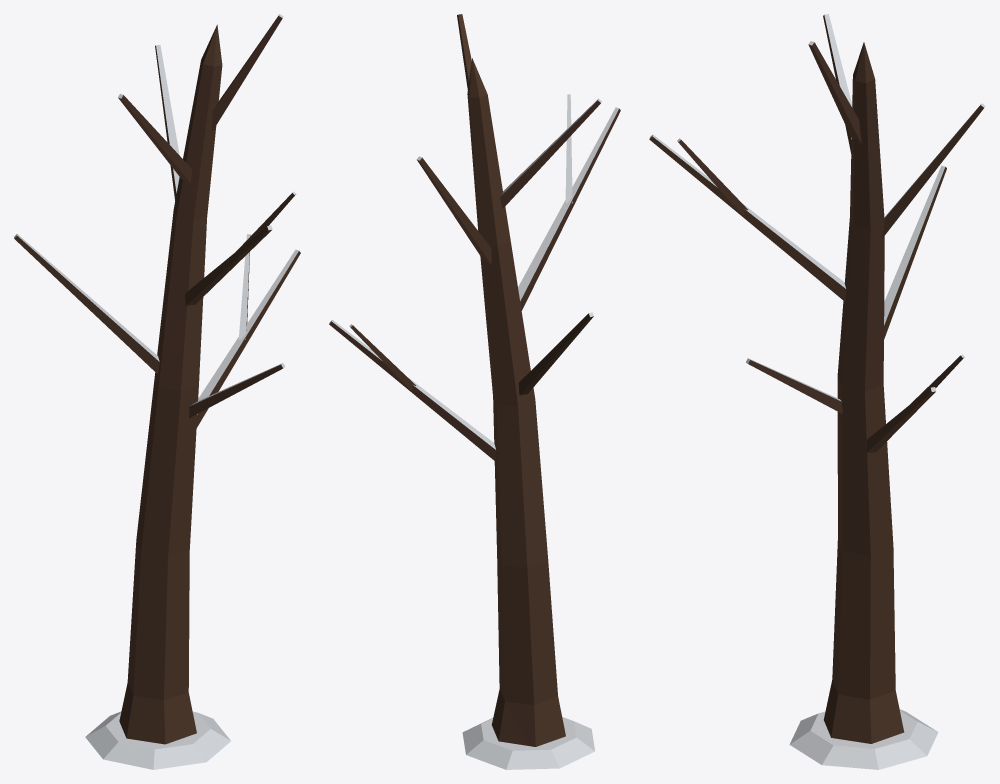
The model's file is dead_tree.glb.
3 renders of one model, left to right at view 1: azimuth 30°, elevation 25°; view 2: azimuth 150°, elevation 25°; view 3: azimuth 270°, elevation 25°, orthographic. The views are drawn at different scales.
Visible parts, largest first — view 1: Tree; view 2: Tree; view 3: Tree.
Part boxes in pixels (x1,y1,x2,y2): Tree: [14, 14, 300, 769]; Tree: [329, 14, 620, 769]; Tree: [649, 14, 985, 769].
Bounding box in the file's own units: 2 × 4.87 × 1.99.
